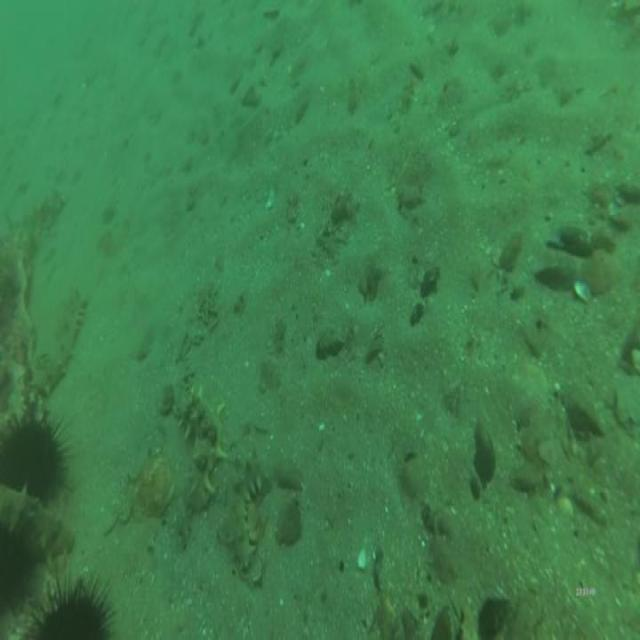echinus: (0, 400, 78, 510), (18, 562, 122, 638)
holothurian: (23, 278, 89, 397), (172, 379, 228, 512), (226, 450, 268, 569)
